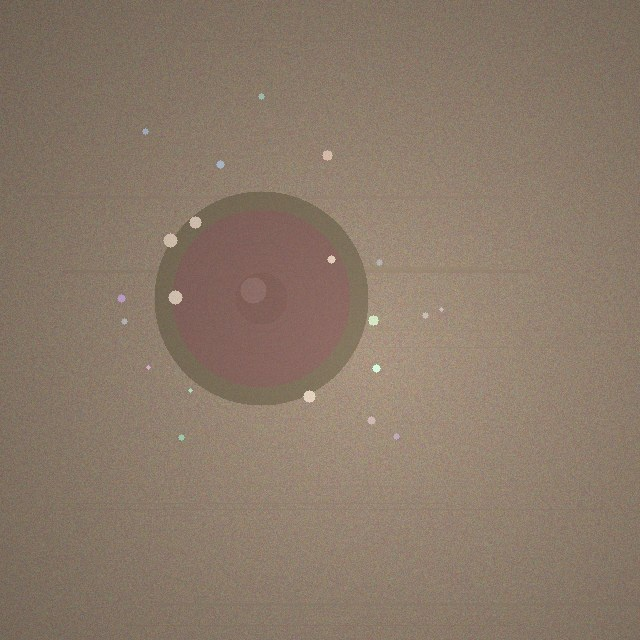overburn: (154, 191, 368, 405)
